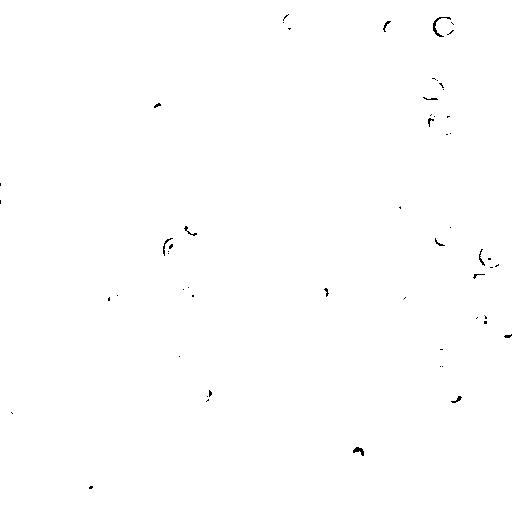micro-algae: (163, 313, 250, 400), (217, 449, 337, 512), (1, 218, 38, 285), (83, 250, 132, 292), (161, 0, 225, 22), (65, 292, 100, 328), (105, 404, 136, 435), (427, 107, 458, 137), (220, 68, 250, 97), (1, 392, 26, 424), (2, 452, 34, 477), (416, 76, 446, 102), (479, 240, 505, 269), (339, 452, 369, 477), (385, 282, 414, 307), (164, 236, 189, 264), (81, 476, 105, 502), (144, 241, 168, 267), (432, 15, 456, 38), (433, 224, 454, 248), (469, 272, 493, 293), (259, 390, 280, 414), (111, 254, 133, 275), (149, 102, 167, 127), (433, 349, 455, 368), (382, 18, 403, 37), (310, 282, 329, 303), (178, 284, 199, 303), (323, 433, 343, 451), (281, 12, 300, 30), (205, 86, 225, 103), (196, 386, 213, 403), (12, 21, 28, 39), (50, 82, 65, 101), (1, 182, 14, 203), (444, 391, 463, 405), (351, 445, 367, 461), (399, 197, 414, 214), (184, 222, 202, 236), (200, 503, 225, 512), (107, 291, 122, 306), (475, 312, 490, 326), (496, 325, 511, 339), (178, 347, 191, 362), (419, 192, 431, 207), (99, 0, 119, 6), (326, 0, 342, 5)
